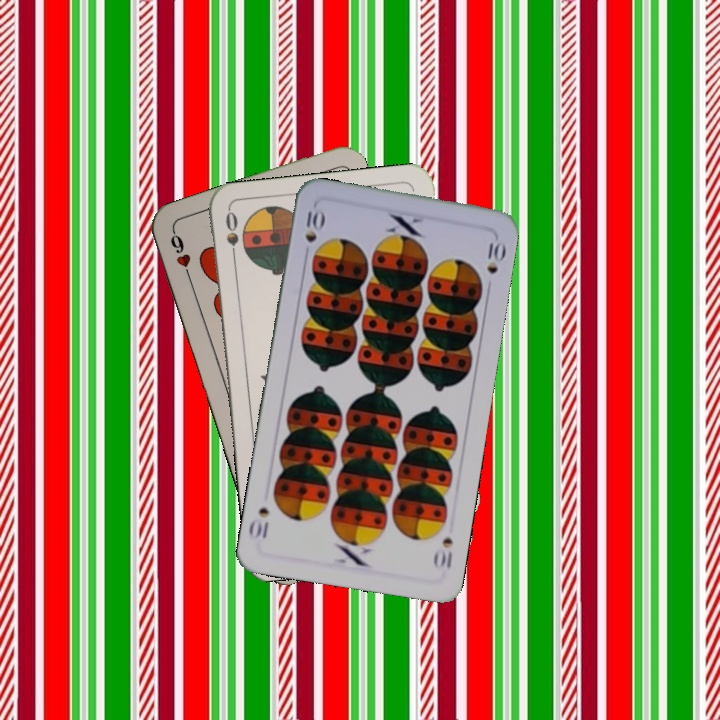H9: (166, 227, 195, 285)
S10: (301, 206, 326, 246), (430, 533, 455, 572)
SO: (221, 207, 242, 267)
